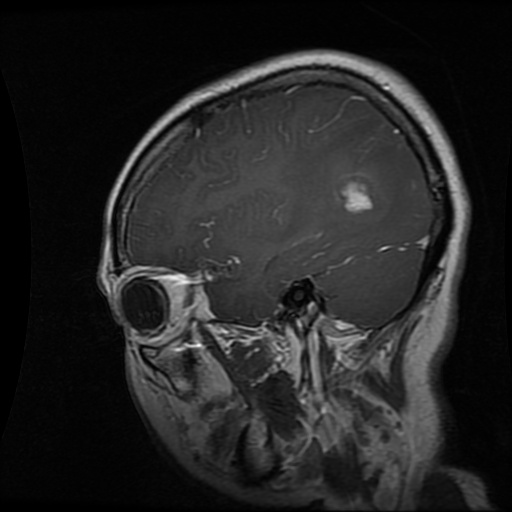glioma: (339, 182, 375, 211)
